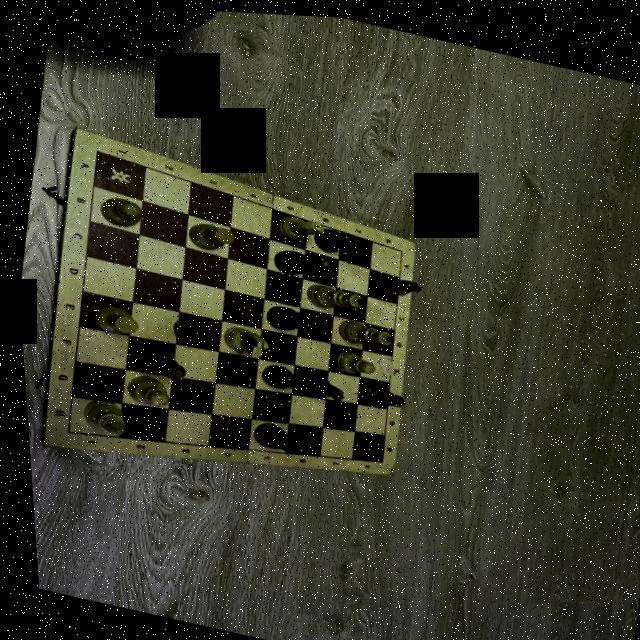chess-table-corners: (86, 142, 105, 156), (52, 424, 70, 437), (369, 452, 382, 462), (394, 242, 404, 249)
